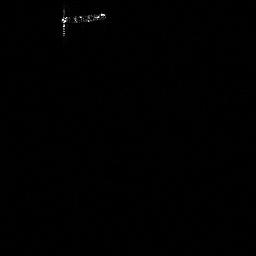ship: (59, 11, 108, 37)
